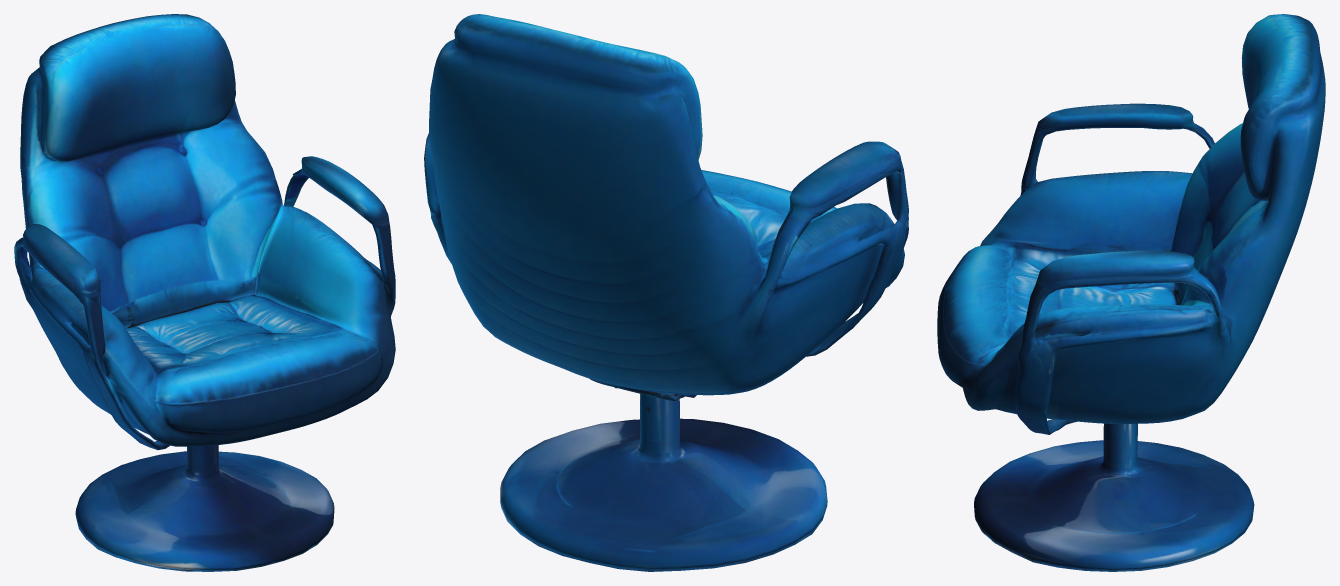
Rendered from CREATE_A_BLUE_3D_ROTA_0105231242_texture.glb.
The picture shows the model from 3 angles, left to right: view 1: azimuth 30°, elevation 25°; view 2: azimuth 150°, elevation 25°; view 3: azimuth 270°, elevation 25°; orthographic projection. The views are drawn at different scales.
Bounding box in the file's own units: 1.54 × 2.01 × 1.51.
1 material, 1 textured.
